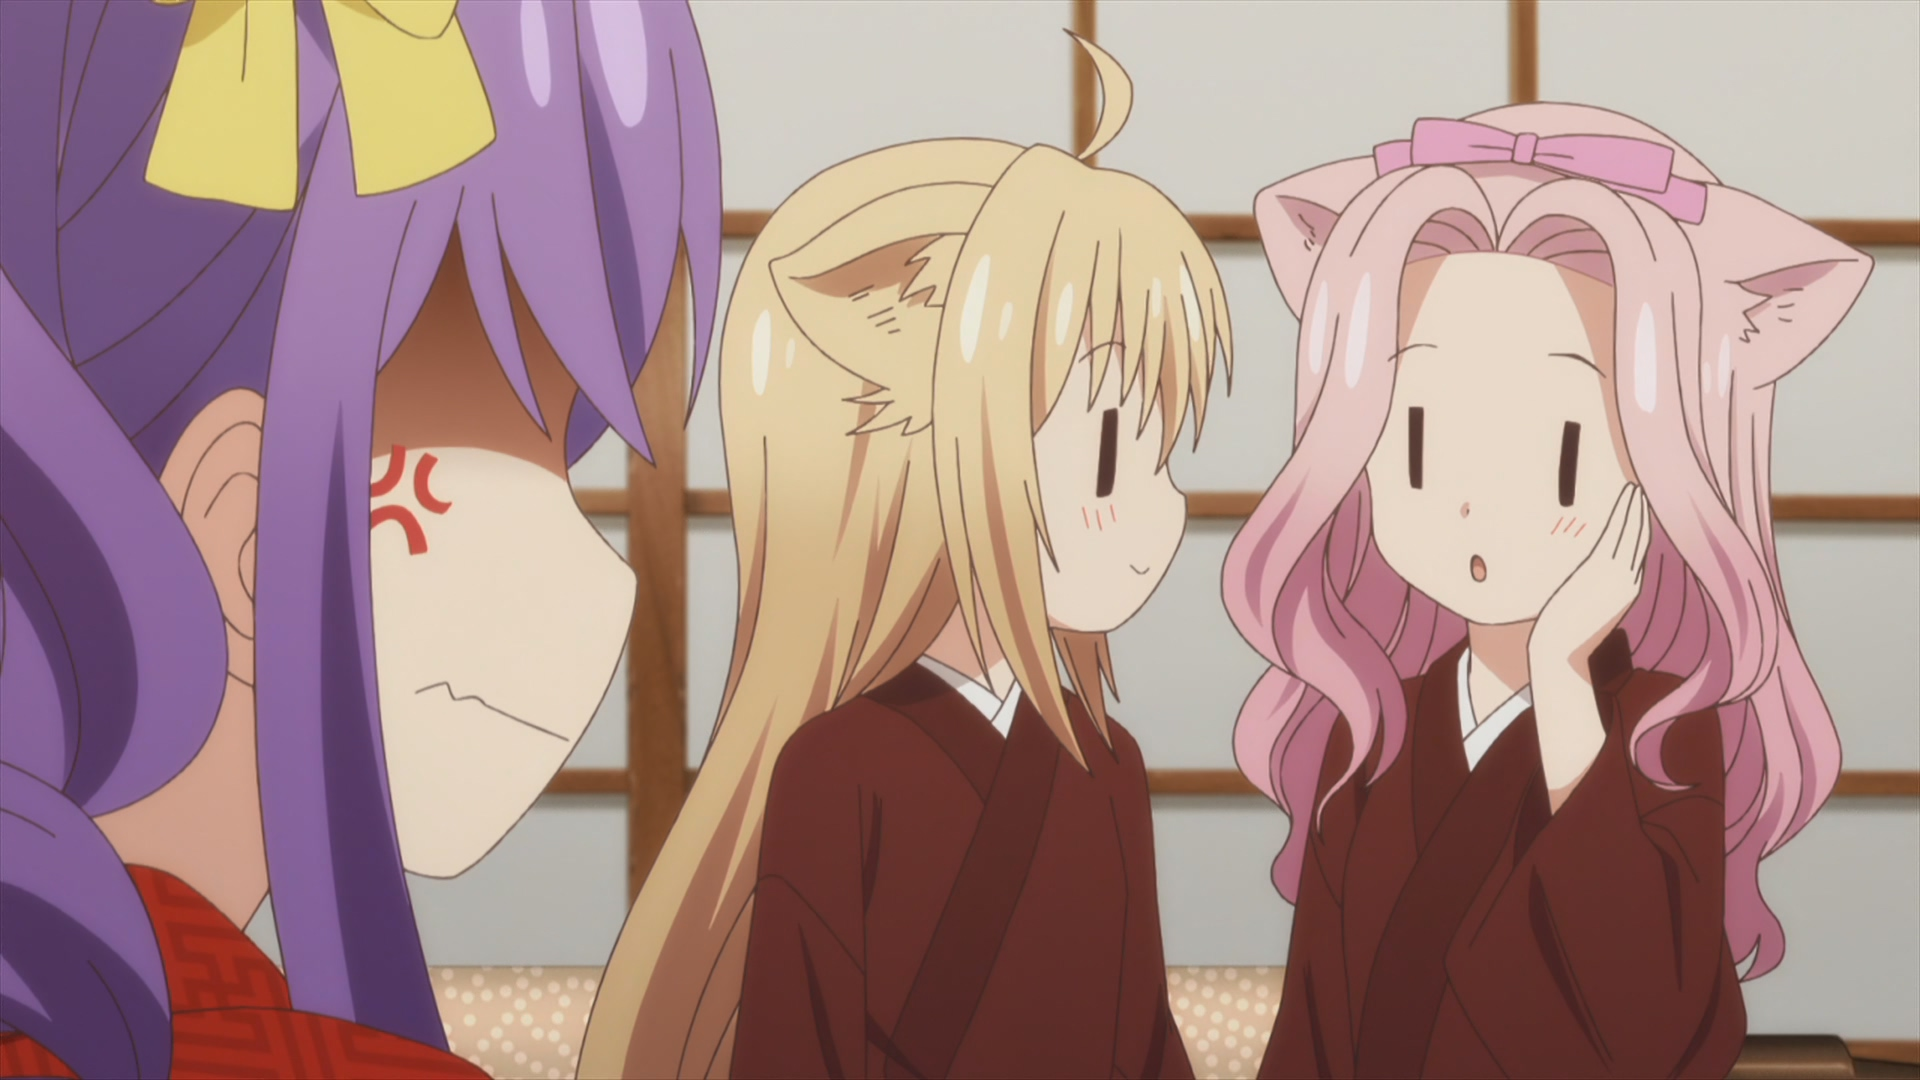柚: (579, 26, 1236, 1080)
莲: (1222, 103, 1876, 1080)
阿菊: (1, 1, 723, 1080)
